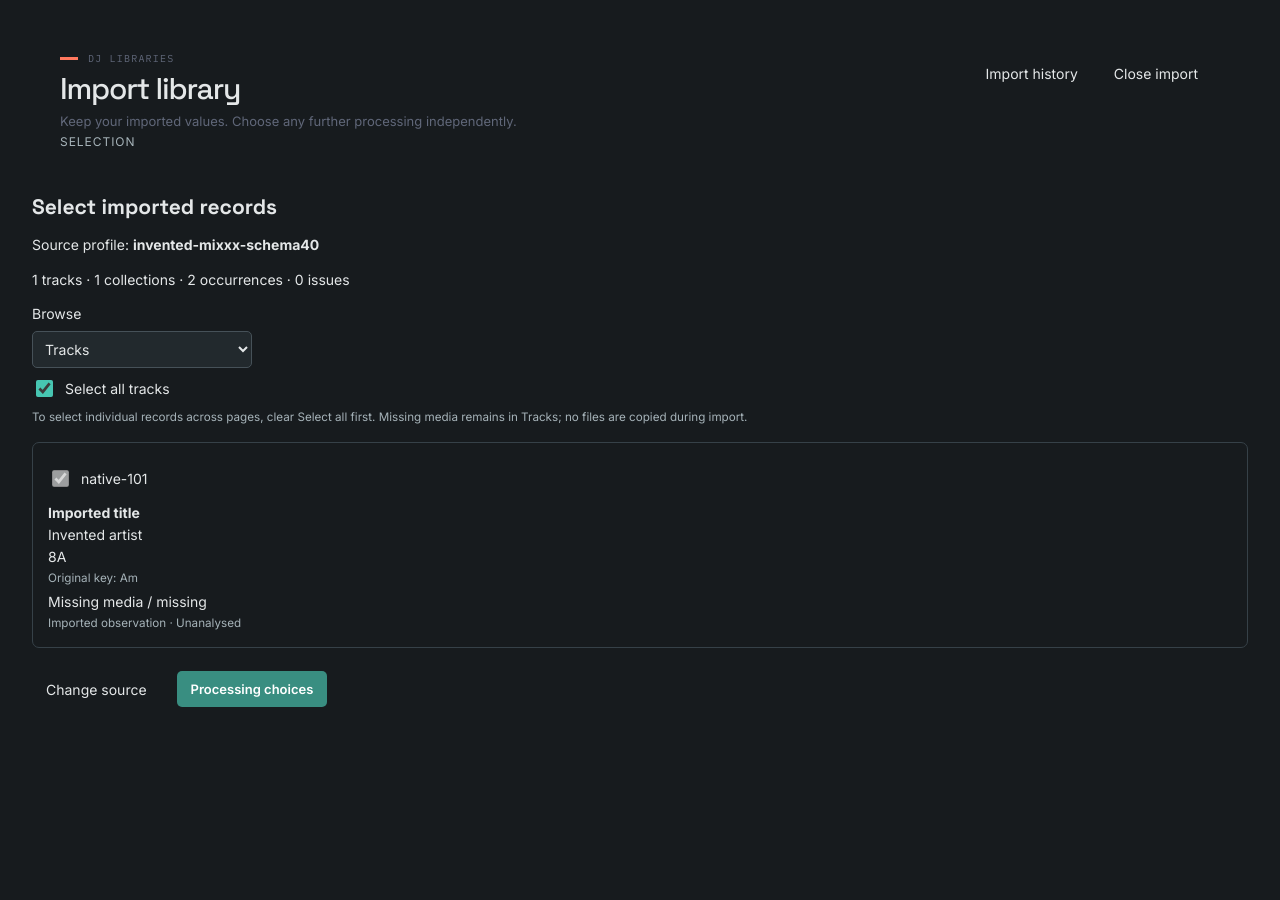
Scenario: import refresh and recovery › unchanged_refresh_has_no_effects
Click the button "Processing choices". click: {"x": 252, "y": 689}
box: x1=177 y1=671 x2=327 y2=707
(page scrolled)
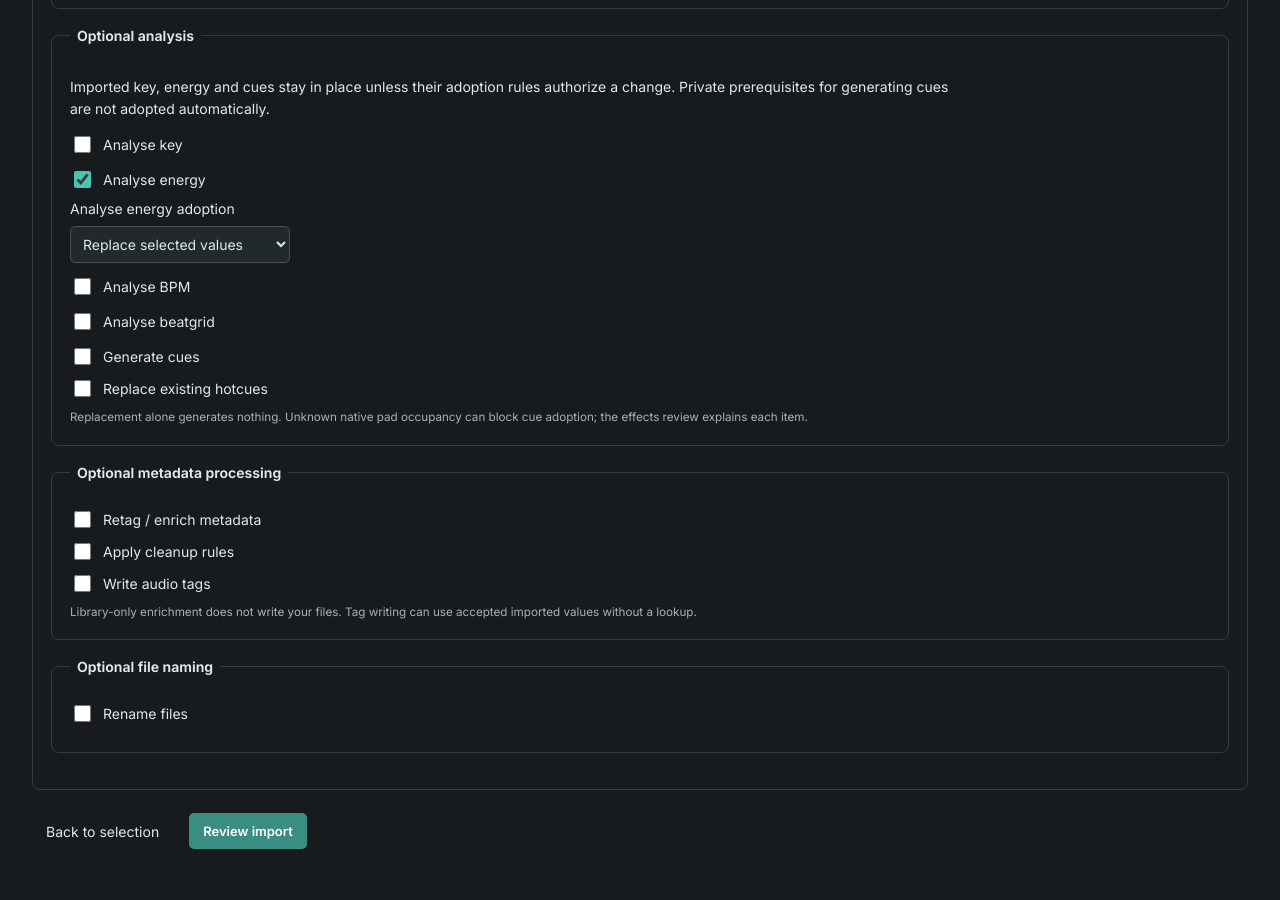
Click the button "Review import". click: {"x": 248, "y": 831}
box: x1=189 y1=813 x2=307 y2=849
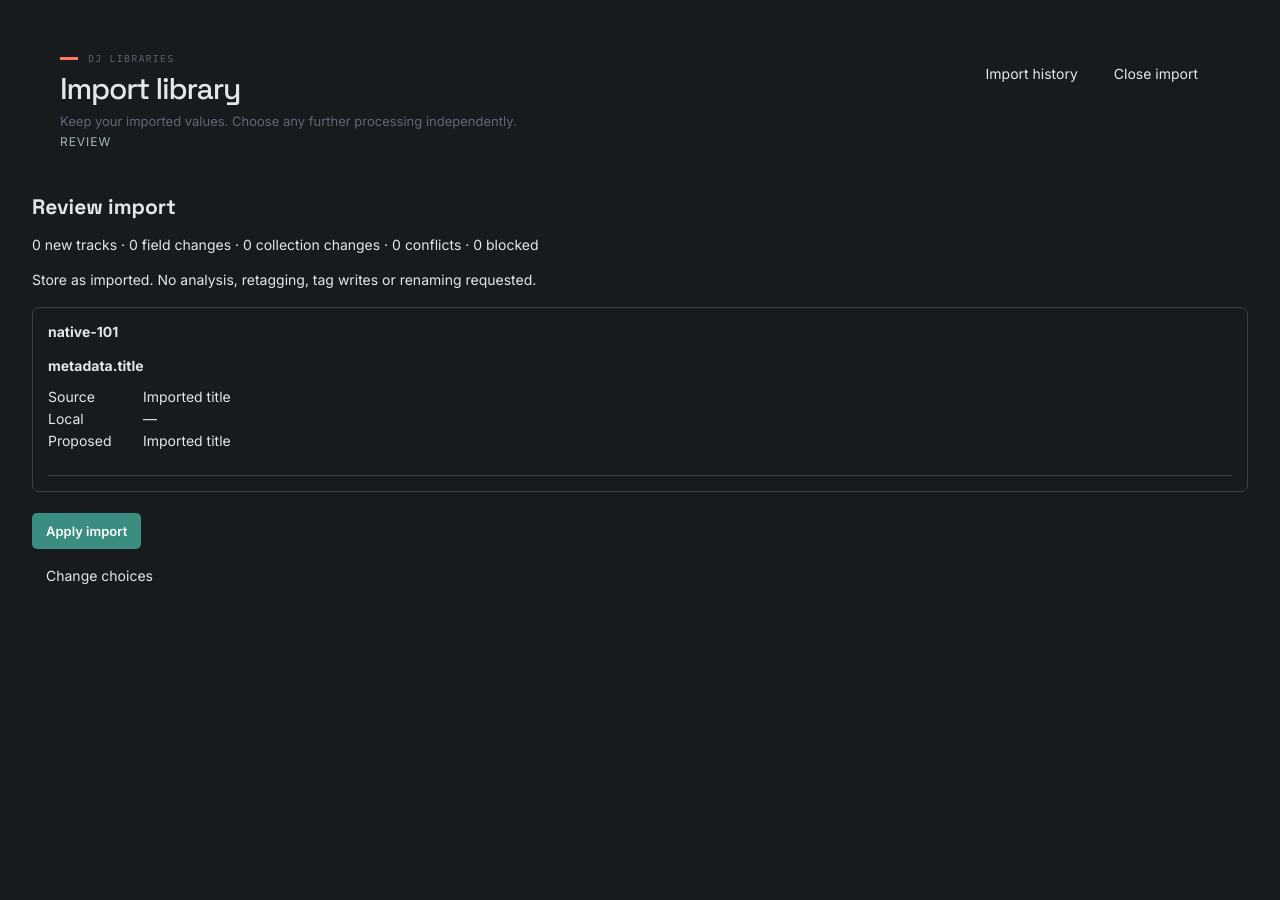
Now the text "0 new tracks · 0 field changes · 0 collection changes" is shown, box x1=32 y1=236 x2=538 y2=252
